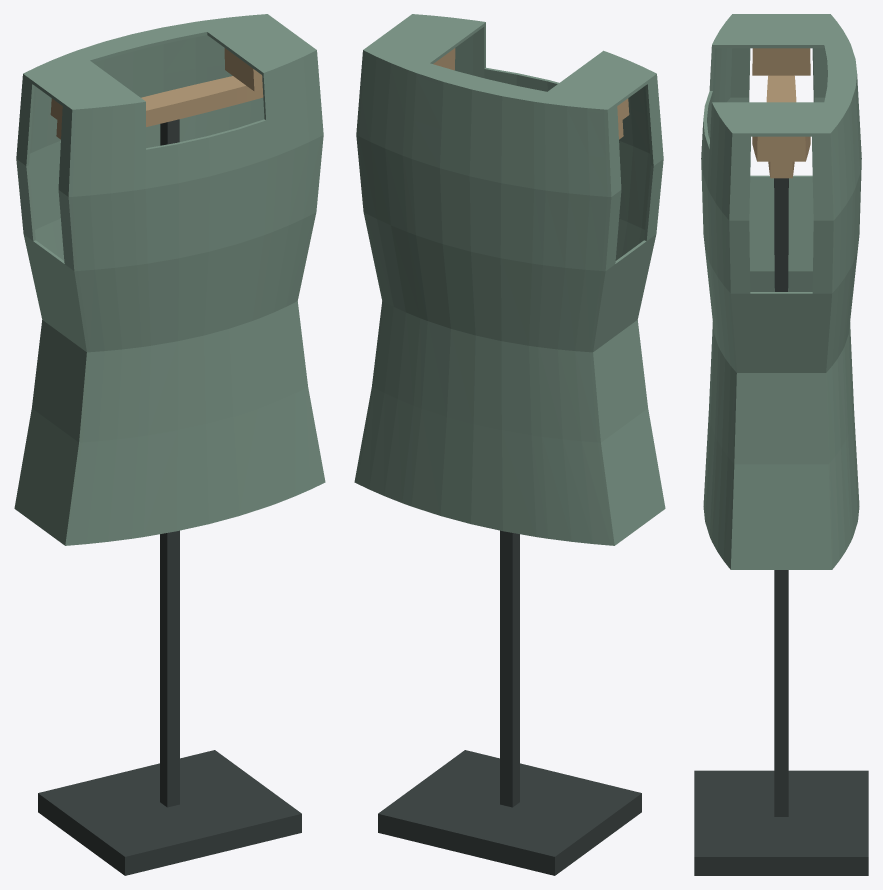
3 views of the same model, side by side, from view 1: azimuth 30°, elevation 25°; view 2: azimuth 150°, elevation 25°; view 3: azimuth 270°, elevation 25° (orthographic).
Visible parts, largest first — view 1: ContinuousHollowSleevelessGarment, FiniteGroundDisplayBase, ThinCentralDisplayPost, DedicatedTwinShoulderYoke; view 2: ContinuousHollowSleevelessGarment, FiniteGroundDisplayBase, ThinCentralDisplayPost; view 3: ContinuousHollowSleevelessGarment, FiniteGroundDisplayBase, ThinCentralDisplayPost, DedicatedTwinShoulderYoke.
Boxes of the visible parts, bbox=[...] form: ContinuousHollowSleevelessGarment: bbox=[14, 14, 325, 545]; FiniteGroundDisplayBase: bbox=[38, 750, 301, 875]; ThinCentralDisplayPost: bbox=[160, 119, 179, 807]; DedicatedTwinShoulderYoke: bbox=[50, 48, 263, 139]; ContinuousHollowSleevelessGarment: bbox=[354, 14, 665, 545]; FiniteGroundDisplayBase: bbox=[378, 750, 641, 875]; ThinCentralDisplayPost: bbox=[500, 530, 519, 807]; ContinuousHollowSleevelessGarment: bbox=[701, 14, 861, 569]; FiniteGroundDisplayBase: bbox=[694, 770, 868, 875]; ThinCentralDisplayPost: bbox=[774, 178, 788, 816]; DedicatedTwinShoulderYoke: bbox=[752, 48, 810, 178].
Size of the model in its own units: 0.5 by 1.4 by 0.29.
